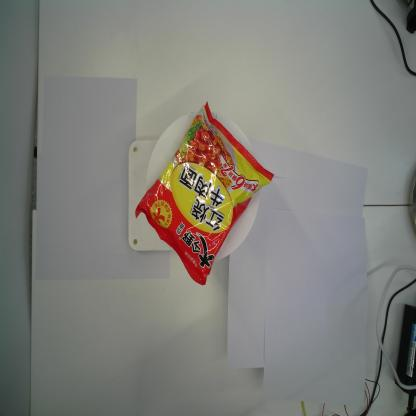Instant Noodles: (134, 102, 274, 290)
